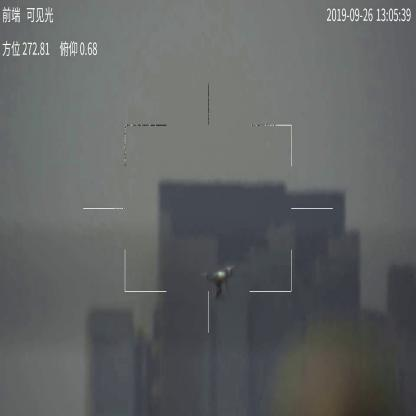uav: (199, 261, 239, 302)
